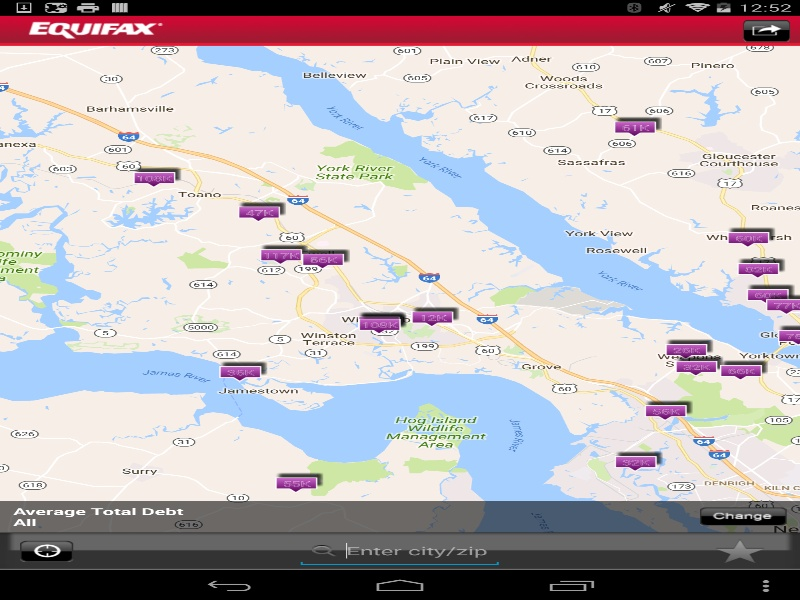Button: (700, 507, 786, 526), (713, 538, 766, 563), (750, 24, 783, 37)
Input: (296, 535, 503, 566)
